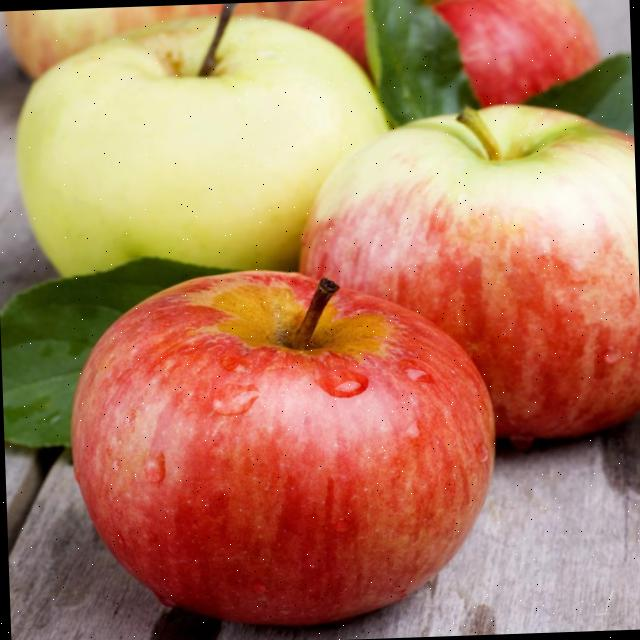Apel: (64, 261, 504, 634), (293, 97, 640, 455), (9, 2, 396, 282), (285, 0, 603, 117), (3, 1, 287, 81)
